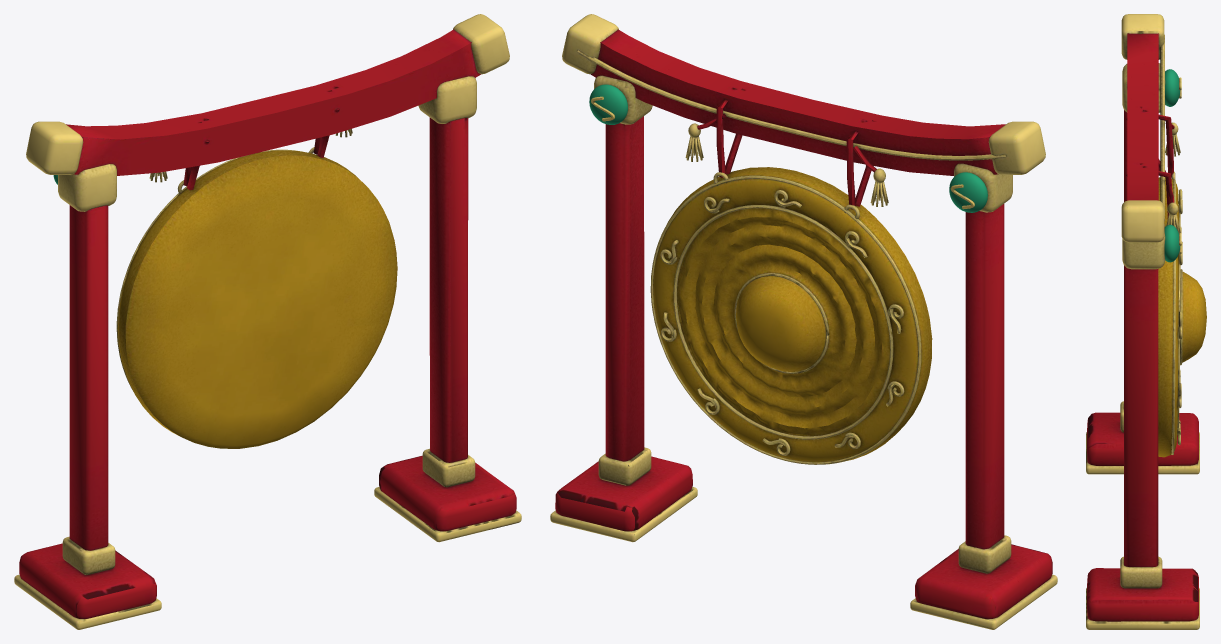
3 views of the same model, side by side, from view 1: azimuth 30°, elevation 25°; view 2: azimuth 150°, elevation 25°; view 3: azimuth 270°, elevation 25° (orthographic). The views are drawn at different scales.
Parts seen in each view (by area): view 1: Warm_bronze_gold_gong, Glossy_cinnabar_lacquer_and_silk, Festival_polished_gold; view 2: Glossy_cinnabar_lacquer_and_silk, Warm_bronze_gold_gong, Festival_polished_gold, glow_Carved_green_jade; view 3: Glossy_cinnabar_lacquer_and_silk, Festival_polished_gold, Warm_bronze_gold_gong, glow_Carved_green_jade.
Boxes of the visible parts, <box> form: Warm_bronze_gold_gong: <box>117,150,397,448</box>; Glossy_cinnabar_lacquer_and_silk: <box>19,29,516,618</box>; Festival_polished_gold: <box>14,14,521,629</box>; Glossy_cinnabar_lacquer_and_silk: <box>555,29,1052,618</box>; Warm_bronze_gold_gong: <box>653,167,932,462</box>; Festival_polished_gold: <box>550,14,1057,629</box>; glow_Carved_green_jade: <box>589,84,987,212</box>; Glossy_cinnabar_lacquer_and_silk: <box>1087,33,1198,621</box>; Festival_polished_gold: <box>1086,14,1199,629</box>; Warm_bronze_gold_gong: <box>1158,177,1206,457</box>; glow_Carved_green_jade: <box>1164,69,1180,262</box>.
Size of the model in its own units: 2.72 by 2.67 by 0.6899.
4 materials, 3 textured.
